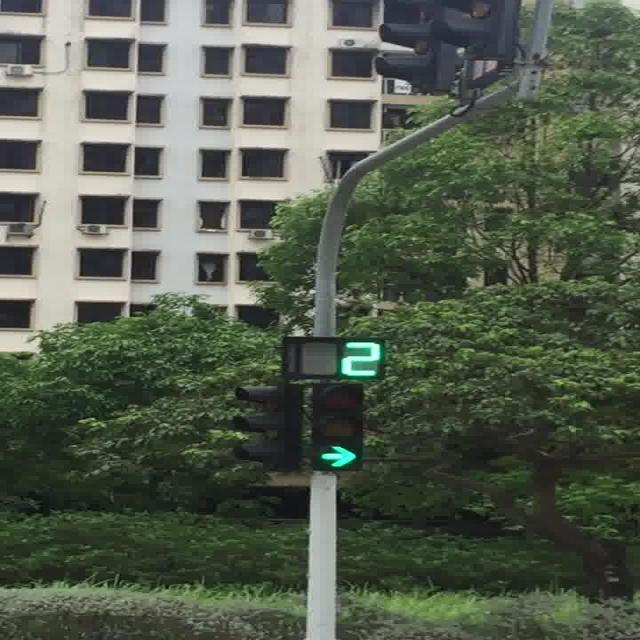traffic light: (374, 0, 523, 95), (377, 0, 523, 64), (374, 22, 463, 94), (234, 382, 301, 472), (311, 382, 364, 472)
